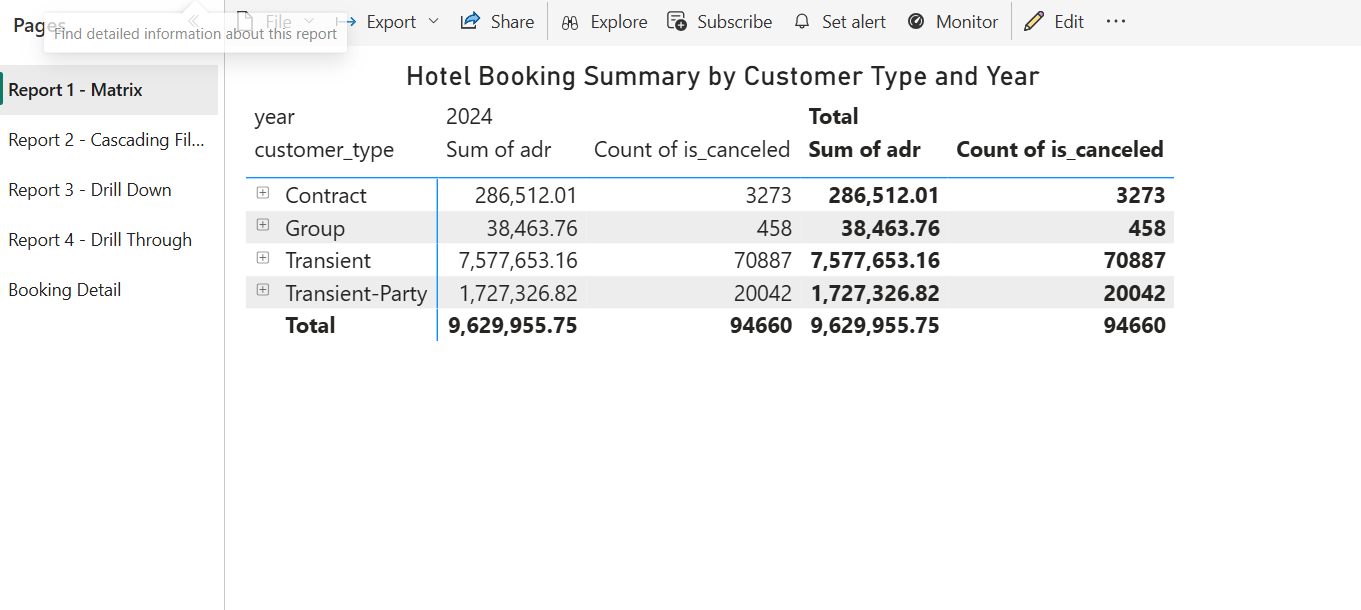

Layout of this report page (visuals, bound fields, positions):
{"tool":"powerbi","page":{"name":"Report 1 - Matrix","canvas":[1280,720],"ordinal":0},"visuals":[{"type":"pivotTable","title":"Hotel Booking Summary by Customer Type and Year","fields":{"Rows":["dim_customer.customer_type","dim_market.market_segment"],"Columns":["dim_date.year"],"Values":["Sum(fact_bookings.adr)","CountNonNull(fact_bookings.is_canceled)"]},"box":[0,0,596.7,196.7],"z":0}]}

Visuals, with their boxes on the page's 1280x720 design canvas (x1, y1, x2, y2). These are canvas units, not pixel positions in the 1361x610 screenshot, which may show the page scaled, cropped or inside an application window:
"Hotel Booking Summary by Customer Type and Year" pivotTable: box=[0, 0, 597, 197]
